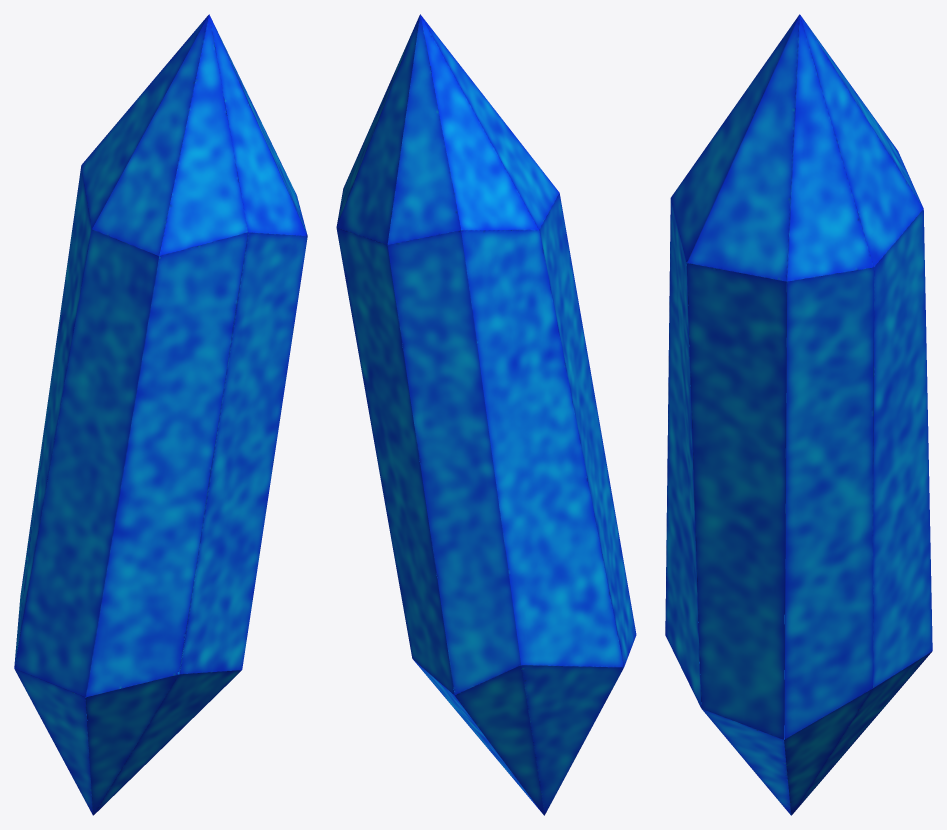
The model's file is crystal_unobtained.obj.
3 renders of one model, left to right at view 1: azimuth 30°, elevation 25°; view 2: azimuth 150°, elevation 25°; view 3: azimuth 270°, elevation 25°, orthographic. The views are drawn at different scales.
Visible parts, largest first — view 1: Circle; view 2: Circle; view 3: Circle.
Boxes of the visible parts, x1,y1,x2,y2 form: Circle: [14, 14, 307, 815]; Circle: [336, 14, 636, 815]; Circle: [665, 14, 932, 815].
Size of the model in its own units: 2.74 by 7.18 by 2.
